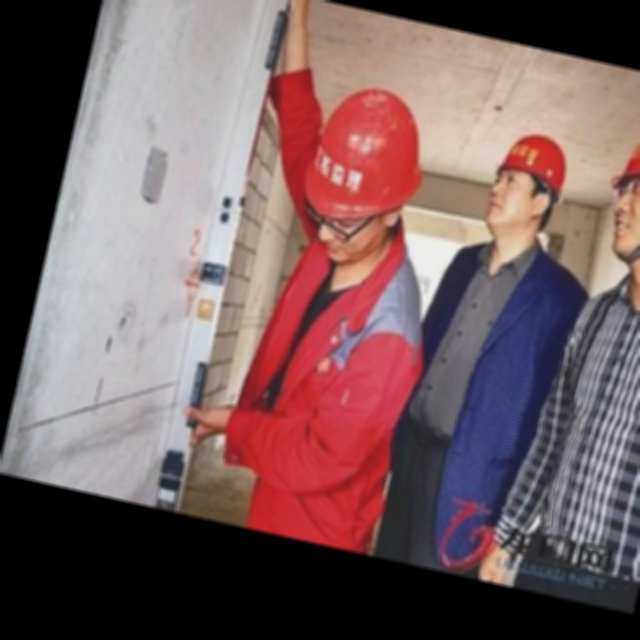Con_Casco: (292, 79, 433, 269), (478, 124, 567, 250), (602, 108, 640, 284)
